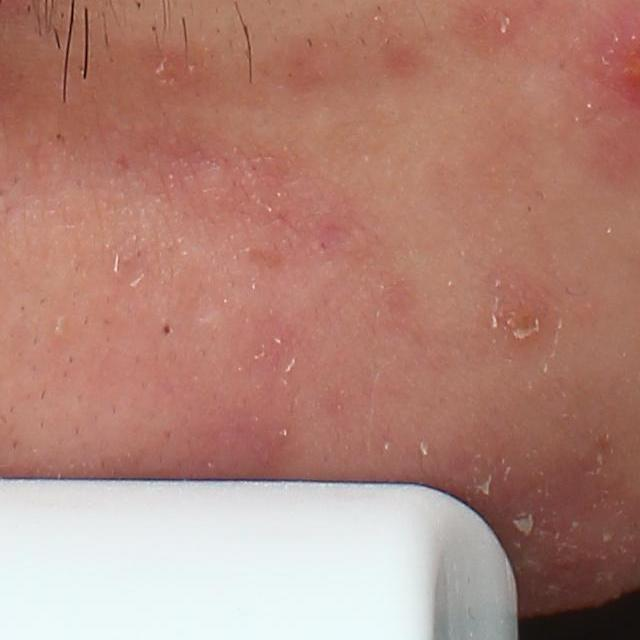comedo: (159, 320, 177, 342)
